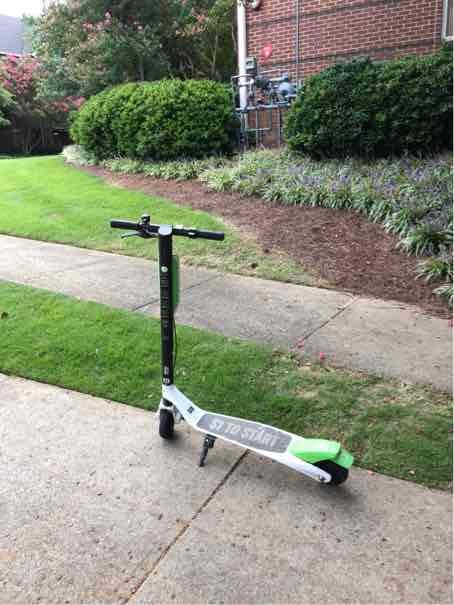scooter: (104, 212, 355, 499)
